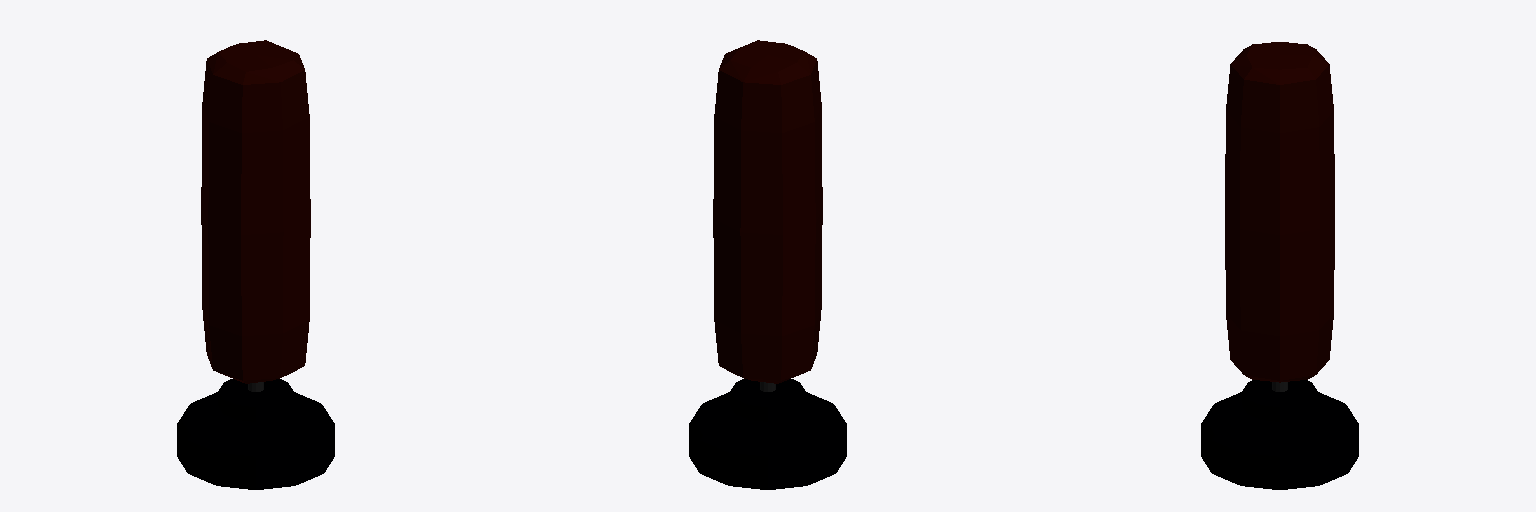
The model's file is PunchingBag1.obj.
3 renders of one model, left to right at view 1: azimuth 30°, elevation 25°; view 2: azimuth 150°, elevation 25°; view 3: azimuth 270°, elevation 25°, orthographic.
Visible parts, largest first — view 1: PunchingBag1_Cube.001; view 2: PunchingBag1_Cube.001; view 3: PunchingBag1_Cube.001.
Boxes of the visible parts, x1=… form: PunchingBag1_Cube.001: x1=177, y1=40, x2=334, y2=489; PunchingBag1_Cube.001: x1=689, y1=40, x2=846, y2=489; PunchingBag1_Cube.001: x1=1201, y1=42, x2=1358, y2=489.
Bounding box in the file's own units: 0.6433 × 1.82 × 0.6433.